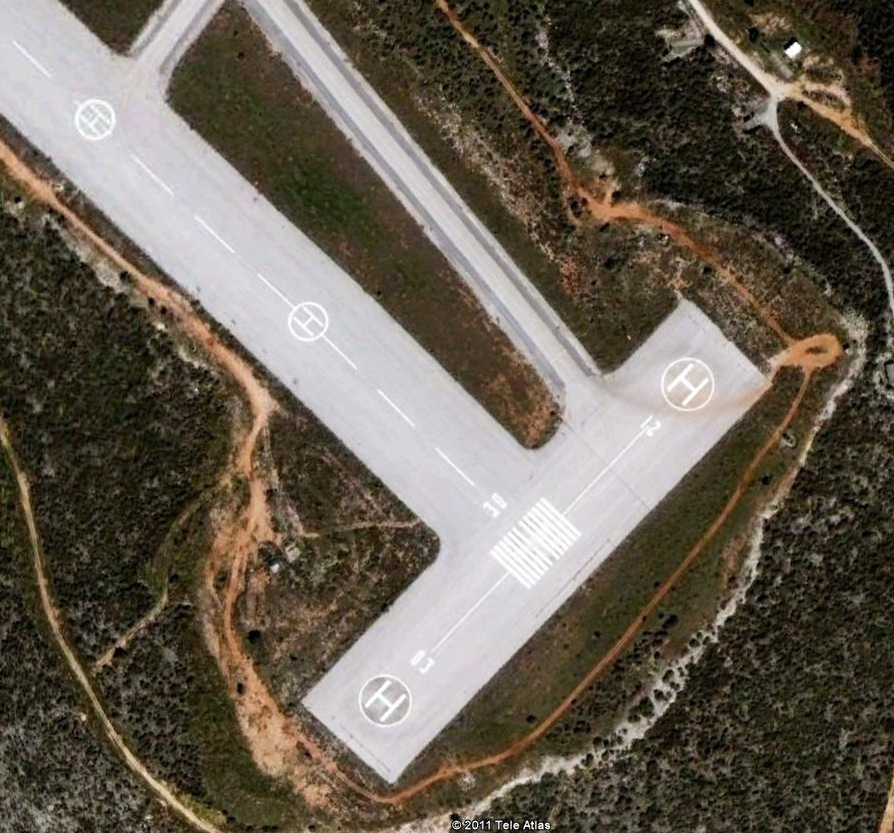heliport: (347, 669, 414, 730), (652, 353, 720, 411), (60, 90, 119, 144), (276, 296, 331, 348)
